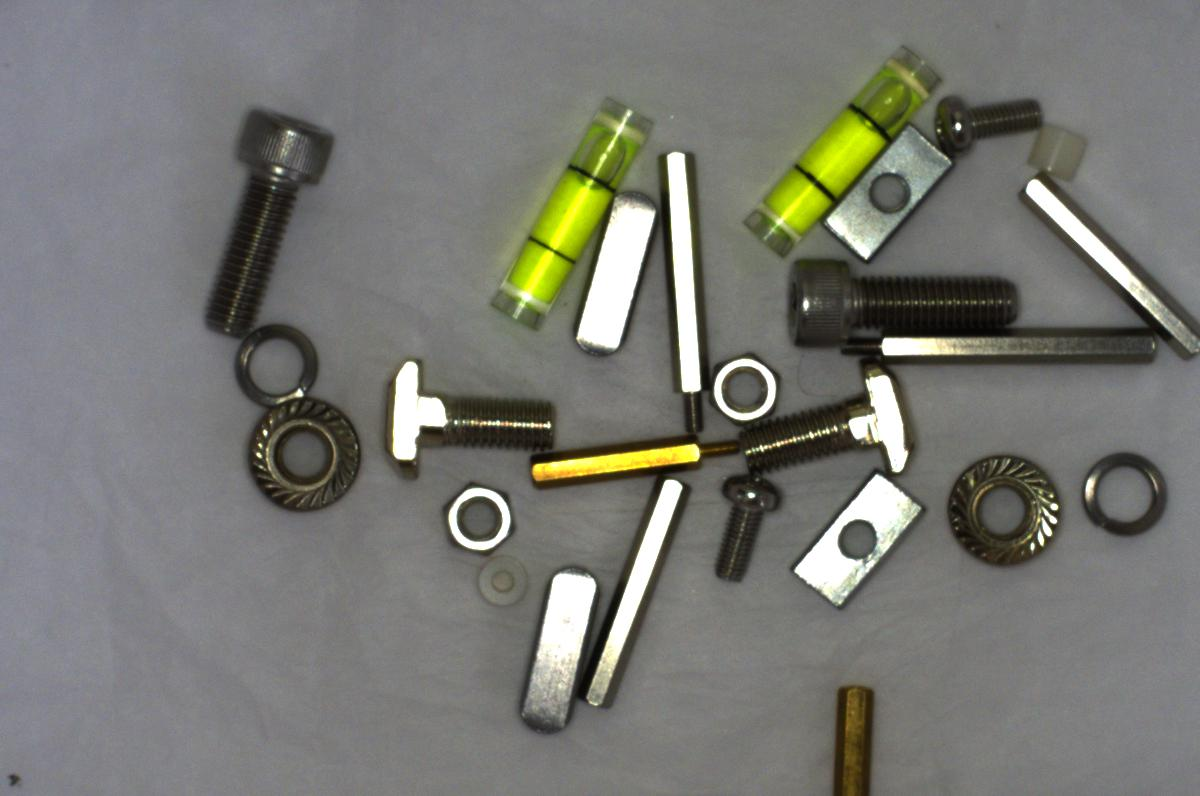Double hexagonal column: (1010, 163, 1192, 360), (569, 467, 710, 717)
Flange nut: (938, 435, 1066, 577), (233, 392, 373, 517)
Hexagon nut: (702, 344, 785, 424), (441, 480, 520, 556)
Hexagon pillar: (533, 421, 744, 492), (817, 672, 895, 795)
Hexagon screw: (194, 100, 337, 337), (782, 259, 1030, 344)
Hexagonal steel column: (652, 141, 719, 439), (826, 323, 1164, 368)
Horizontal bubble: (737, 46, 943, 255), (487, 94, 647, 336)
Keybar: (494, 549, 616, 748), (569, 183, 667, 363)
Plastic cushion pillar: (1021, 106, 1094, 186), (474, 550, 533, 613)
Rectangular nut: (821, 118, 961, 263), (787, 473, 933, 609)
Round head screw: (701, 472, 785, 583), (934, 83, 1044, 162)
Spring washer: (1075, 445, 1180, 551), (224, 310, 319, 408)
T-shaped screw: (379, 346, 571, 477), (732, 349, 923, 478)
